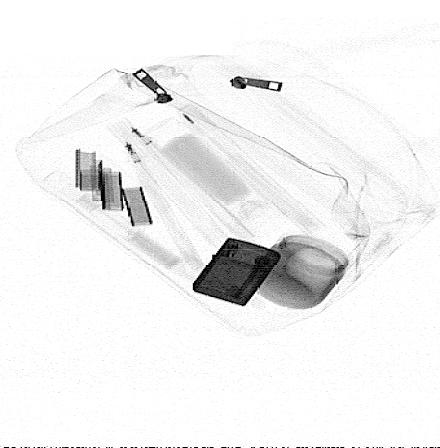Lighter: (193, 237, 282, 307)
